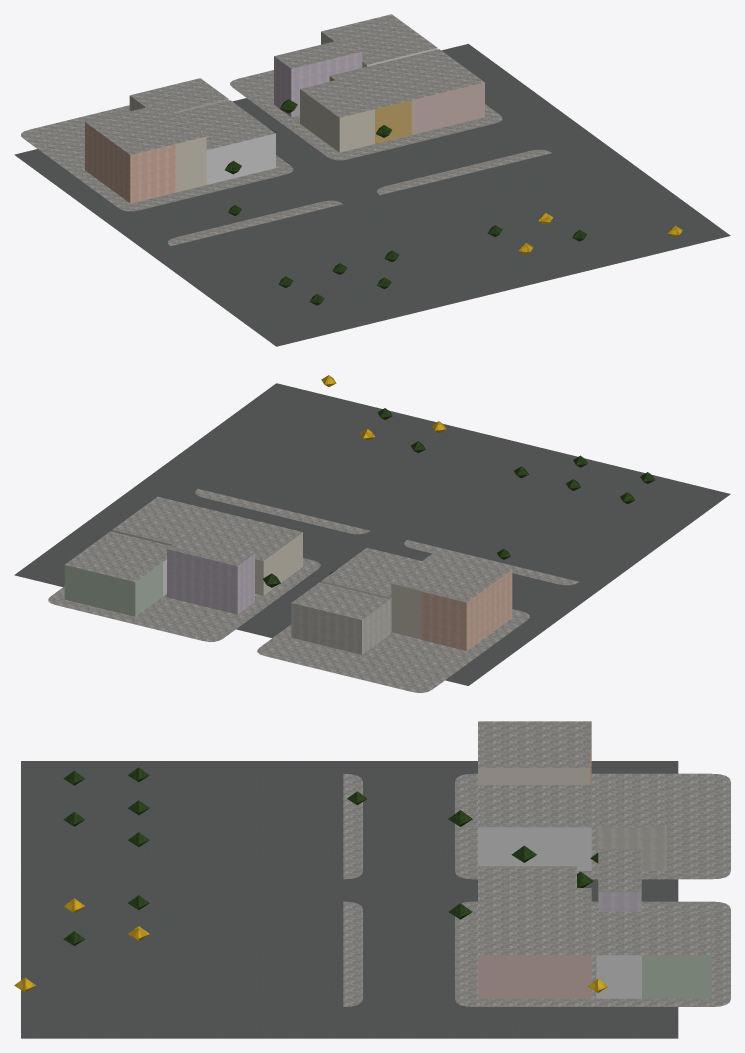
File: cidade_S03_05_lod.gltf
The picture shows the model from 3 angles, top to bottom: view 1: azimuth 30°, elevation 25°; view 2: azimuth 150°, elevation 25°; view 3: azimuth 270°, elevation 25°; orthographic projection. The views are drawn at different scales.
Parts seen in each view (by area): view 1: S03_05_Chao_LOD2, S03_05_Edificios_LOD1, S03_05_Vegetacao_LOD2; view 2: S03_05_Chao_LOD2, S03_05_Edificios_LOD1, S03_05_Vegetacao_LOD2; view 3: S03_05_Chao_LOD2, S03_05_Edificios_LOD1, S03_05_Vegetacao_LOD2.
Part boxes in pixels (x1,y1,x2,y2): S03_05_Chao_LOD2: (14,44,730,346); S03_05_Edificios_LOD1: (85,14,484,203); S03_05_Vegetacao_LOD2: (225,99,682,305); S03_05_Chao_LOD2: (14,383,730,692); S03_05_Edificios_LOD1: (64,496,512,654); S03_05_Vegetacao_LOD2: (263,375,655,587); S03_05_Chao_LOD2: (21,761,730,1038); S03_05_Edificios_LOD1: (478,721,711,998); S03_05_Vegetacao_LOD2: (14,767,608,992).
Bounding box in the file's own units: 100 × 10.37 × 109.
12 materials, 12 textured.
